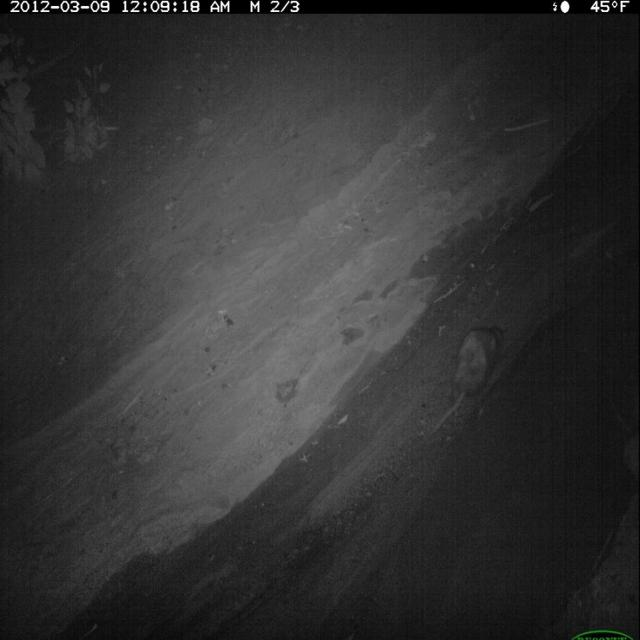opossum: (425, 312, 520, 444)
